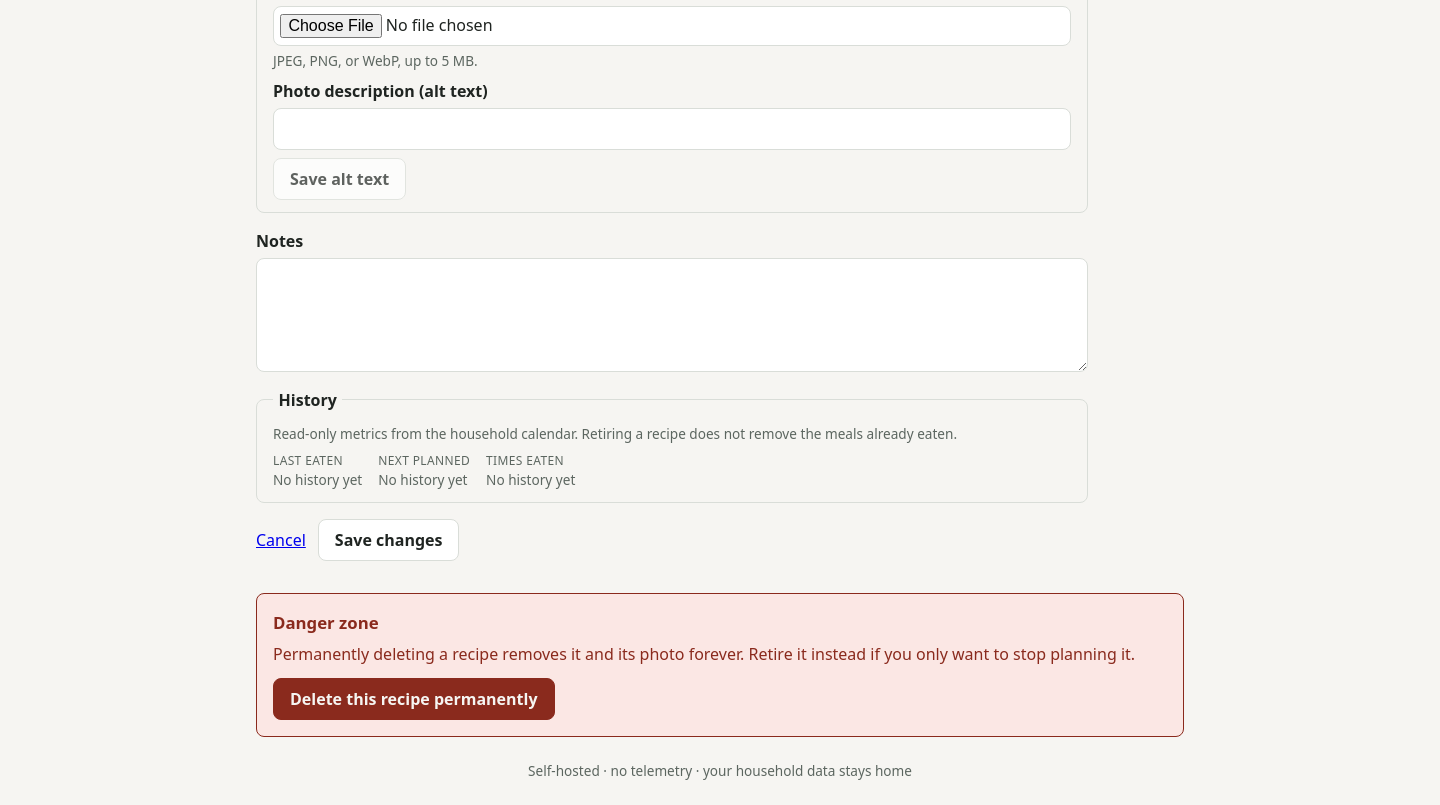
Test: recipe hard delete › appears for an Admin on a saved recipe and opens the shared dialog
(page scrolled)
What coordinates should you click on to do the following:
click the button "Delete this recipe permanently"
I would click on:
 (414, 699)
Its box is [273, 678, 554, 720].
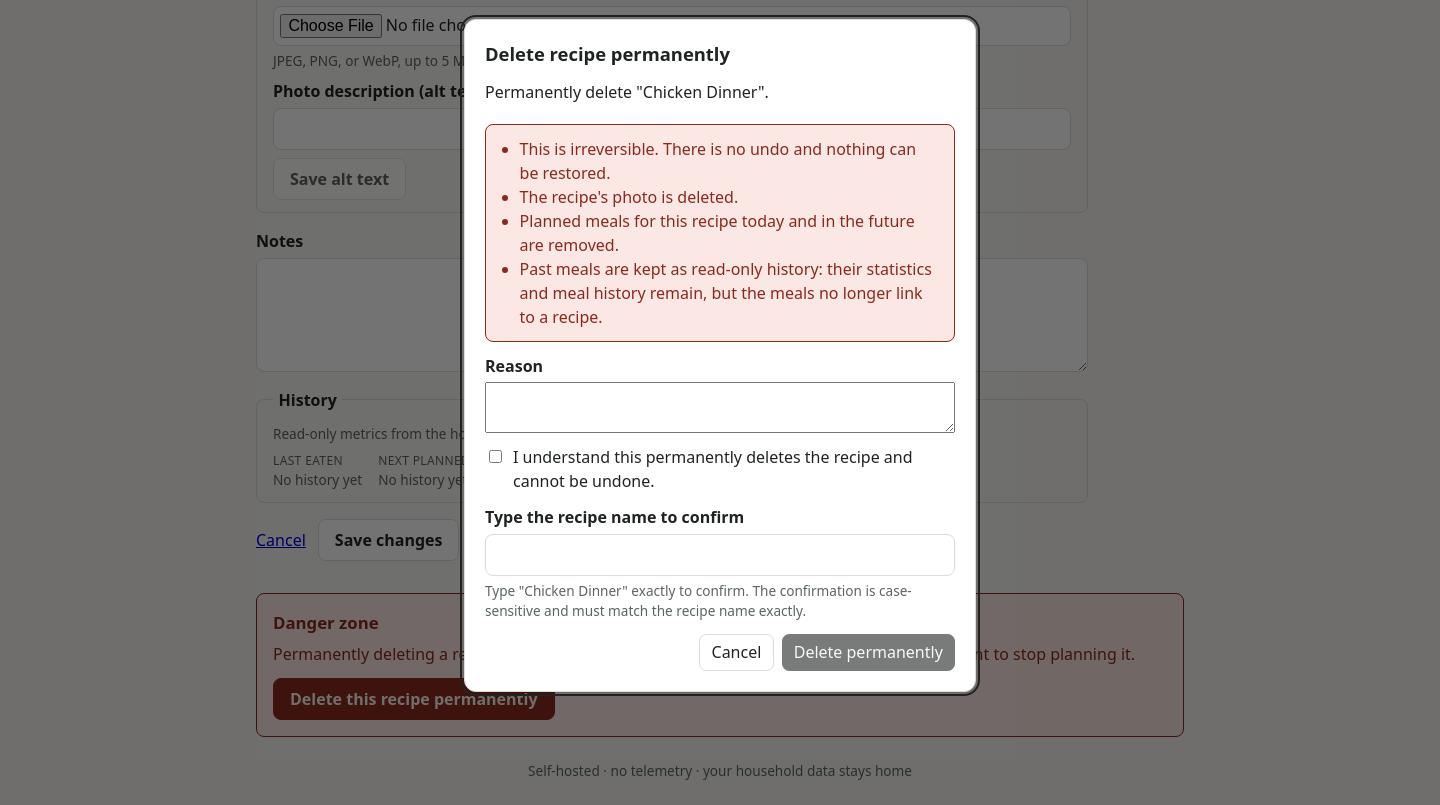
expect the dialog "Delete recipe permanently" is shown: met, box [464, 19, 976, 692]
expect the list item "irreversible. There is no undo" is shown: met, box [520, 138, 916, 184]
expect the list item "The recipe's photo is deleted." is shown: met, box [520, 186, 738, 208]
